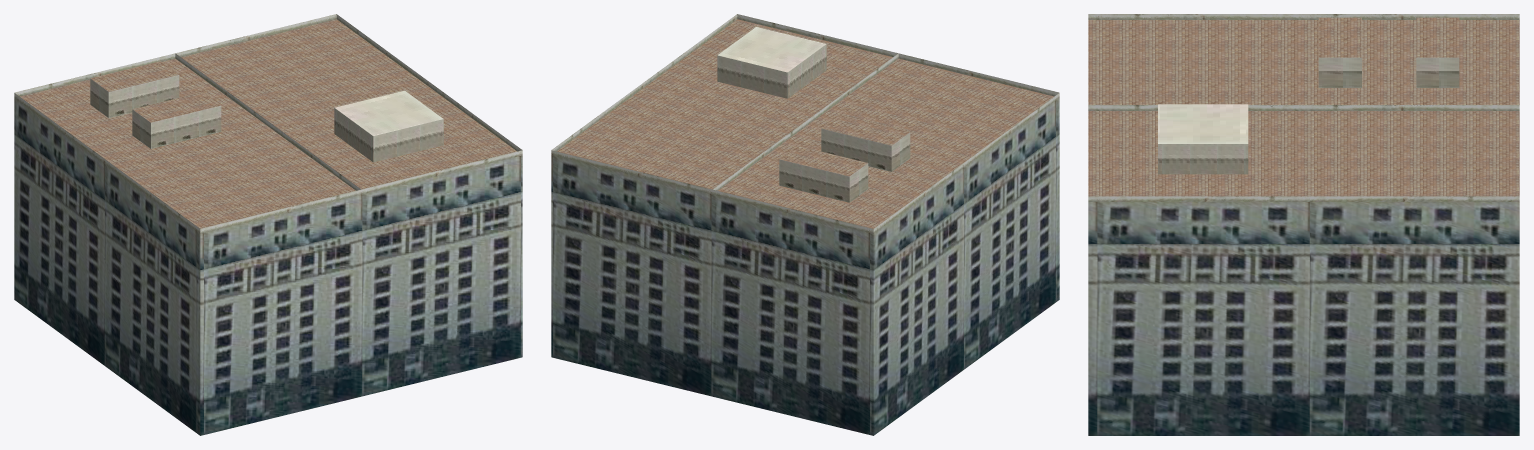
The picture shows the model from 3 angles, left to right: view 1: azimuth 30°, elevation 25°; view 2: azimuth 150°, elevation 25°; view 3: azimuth 270°, elevation 25°; orthographic projection. The views are drawn at different scales.
Visible parts, largest first — view 1: Object_6, Object_3, Object_7, Object_11, Object_10, Object_2, Object_1, Object_4, Object_5, Object_9; view 2: Object_6, Object_3, Object_7, Object_11, Object_10, Object_1, Object_2, Object_4, Object_5, Object_9; view 3: Object_6, Object_3, Object_7, Object_10, Object_11, Object_9, Object_5, Object_4, Object_2, Object_1, Object_8.
Part boxes in pixels (x1,y1,x2,y2): Object_6: (14,14,522,435); Object_3: (20,19,516,228); Object_7: (14,14,522,233); Object_11: (334,108,443,162); Object_10: (335,90,442,135); Object_2: (132,105,221,148); Object_1: (90,75,179,117); Object_4: (132,92,220,122); Object_5: (90,61,178,91); Object_9: (175,53,360,190); Object_6: (551,14,1059,435); Object_3: (557,19,1053,228); Object_7: (551,14,1059,233); Object_11: (717,44,826,98); Object_10: (718,27,825,72); Object_1: (779,159,868,202); Object_2: (821,128,910,171); Object_4: (821,115,909,145); Object_5: (780,146,867,176); Object_9: (713,53,898,190); Object_6: (1088,14,1519,435); Object_3: (1088,20,1519,196); Object_7: (1088,14,1519,201); Object_10: (1158,104,1248,143); Object_11: (1158,144,1248,174); Object_9: (1088,105,1519,110); Object_5: (1416,17,1459,57); Object_4: (1318,17,1361,57); Object_2: (1318,57,1361,87); Object_1: (1416,57,1459,87); Object_8: (1089,105,1511,110).
Bounding box in the file's own units: 1283 × 1283 × 868.
Materials: 11 (11 with a texture image).
